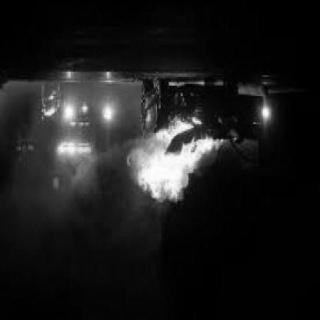Fire: (128, 117, 230, 210)
other: (96, 99, 116, 129), (258, 106, 271, 129)
